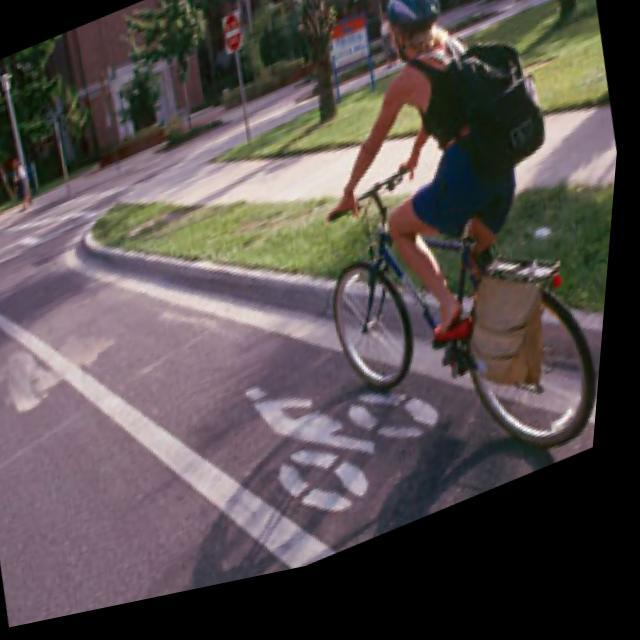Helmet: (375, 0, 443, 57)
